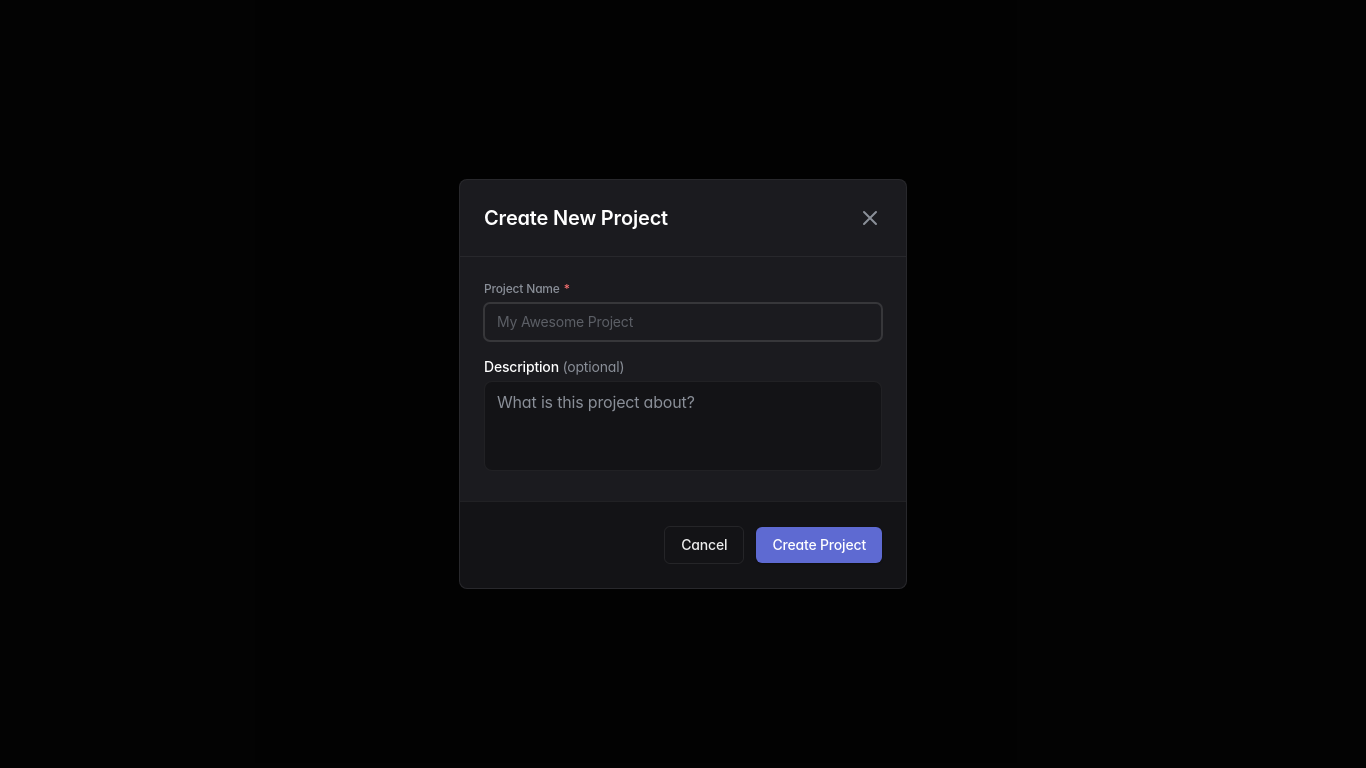
Test: ProjectModal › shows error on API failure
The image size is (1366, 768).
Type "Failing Project" into the field labelled "Project Name*" at [683, 322], box [484,303,882,341]
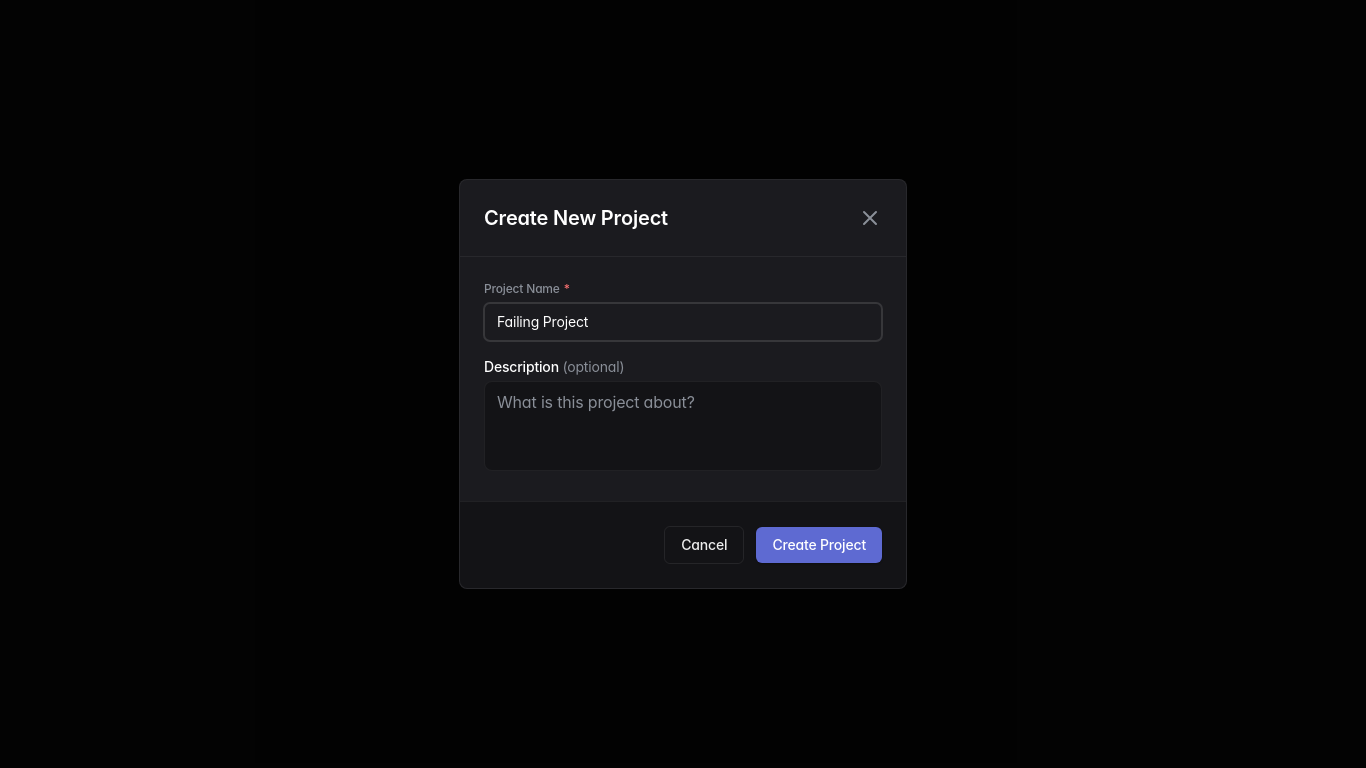
Click the button "Create Project" at [819, 545], box [756,527,882,563]
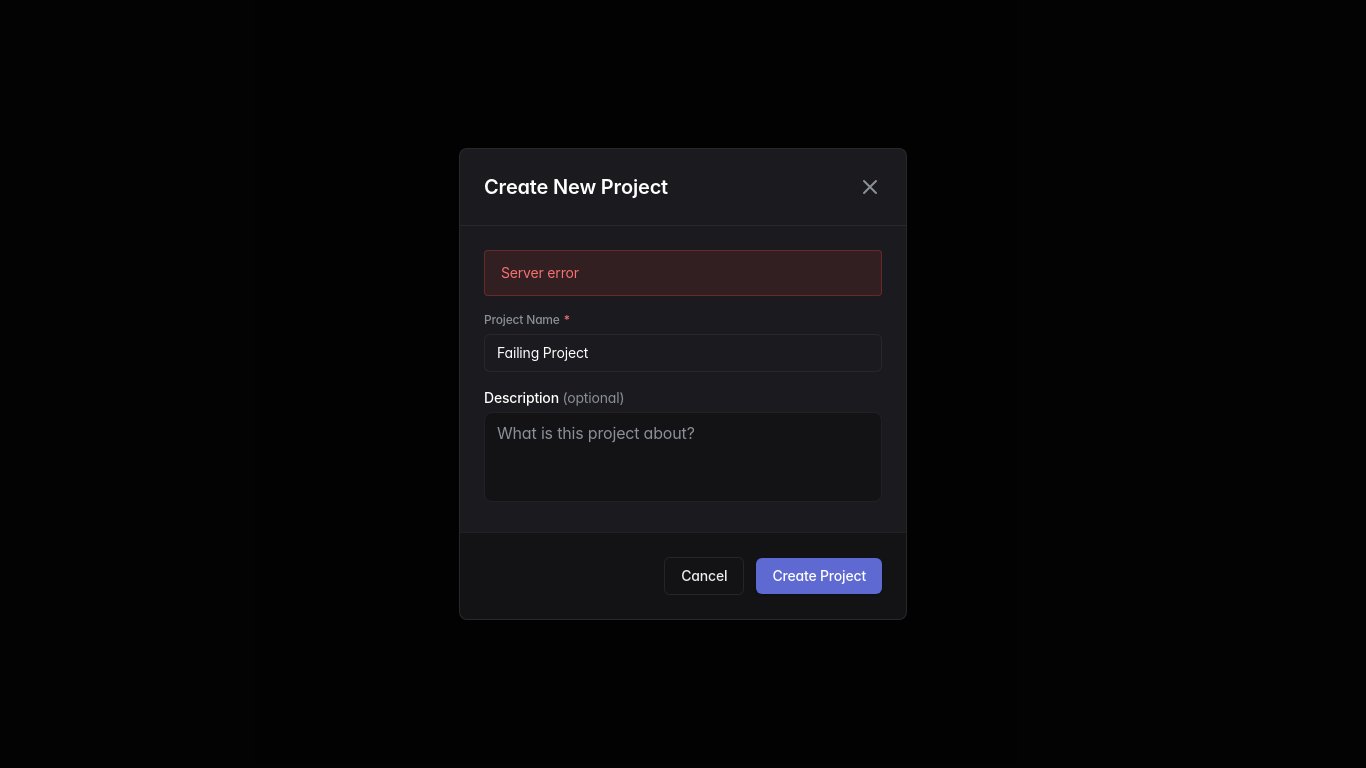
Expected: the message reads "Server error", [501,264,579,281]
